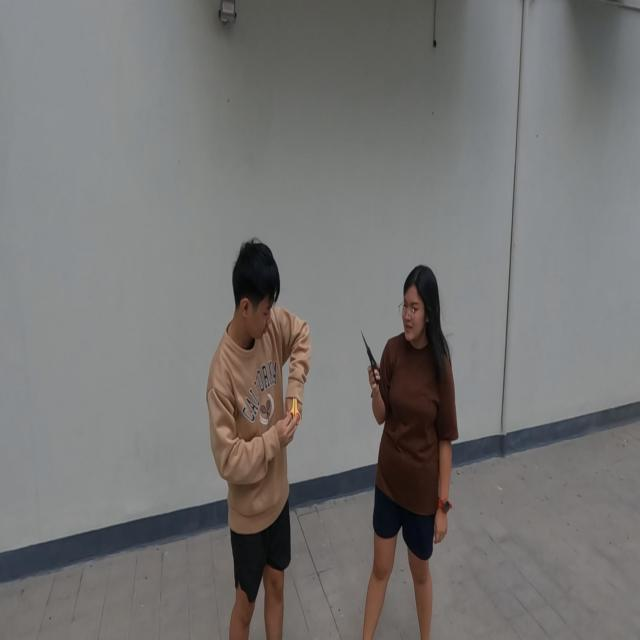scissor: (359, 324, 382, 384), (287, 390, 302, 424)
